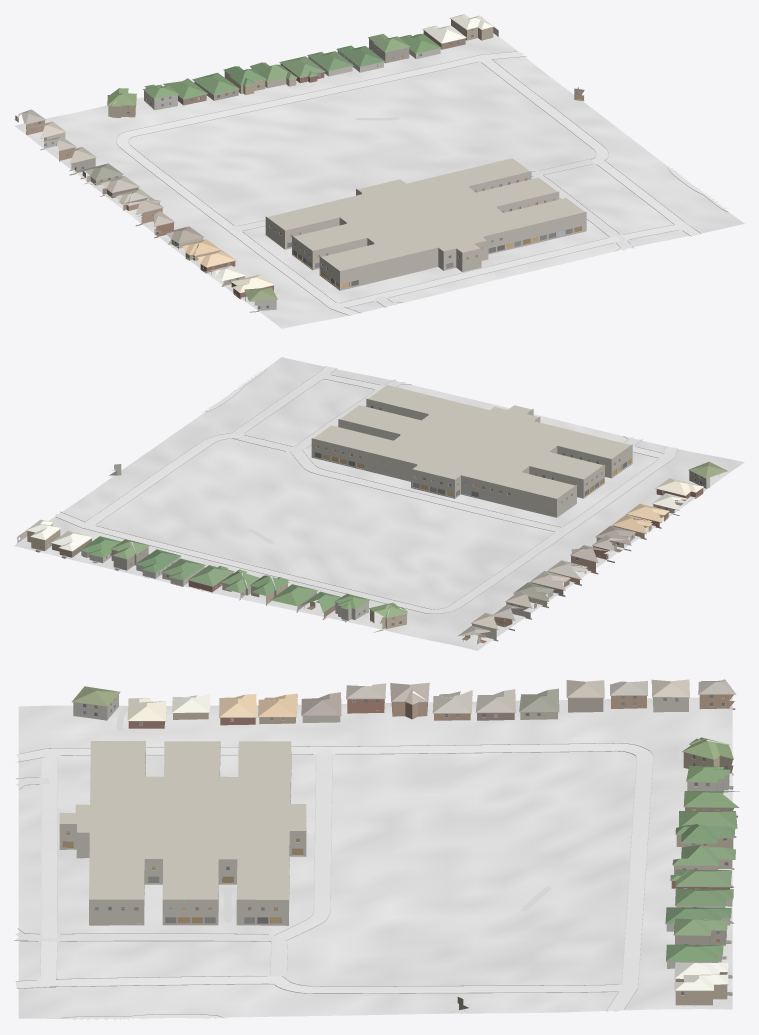
The picture shows the model from 3 angles, top to bottom: view 1: azimuth 30°, elevation 25°; view 2: azimuth 150°, elevation 25°; view 3: azimuth 270°, elevation 25°; orthographic projection. The views are drawn at different scales.
Visible parts, largest first — view 1: ground, roof_flat, roof, concrete, wall_com, wall, curb, detail, wall_stucco, glass, glass_lit, wall_stone; view 2: ground, roof_flat, roof, concrete, wall_com, wall, curb, detail, wall_stucco, glass, glass_lit, wall_stone; view 3: ground, roof_flat, concrete, roof, wall, wall_com, curb, detail, wall_stucco, glass, wall_stone, glass_lit (+1 smaller).
Part boxes in pixels (left/top/right/bottom): ground: left=15, top=33, right=744, bottom=328; roof_flat: left=267, top=158, right=584, bottom=270; roof: left=17, top=14, right=493, bottom=301; concrete: left=116, top=51, right=725, bottom=315; wall_com: left=265, top=88, right=586, bottom=290; wall: left=26, top=19, right=493, bottom=299; curb: left=116, top=51, right=727, bottom=315; detail: left=27, top=18, right=581, bottom=309; wall_stucco: left=40, top=17, right=498, bottom=248; glass: left=38, top=29, right=572, bottom=308; glass_lit: left=31, top=27, right=583, bottom=288; wall_stone: left=245, top=48, right=440, bottom=312; ground: left=14, top=357, right=744, bottom=650; roof_flat: left=313, top=385, right=630, bottom=498; roof: left=26, top=461, right=727, bottom=636; concrete: left=55, top=366, right=677, bottom=613; wall_com: left=111, top=398, right=632, bottom=517; wall: left=27, top=488, right=703, bottom=632; curb: left=56, top=366, right=677, bottom=613; detail: left=16, top=405, right=720, bottom=642; wall_stucco: left=17, top=531, right=634, bottom=641; glass: left=109, top=405, right=701, bottom=625; glass_lit: left=47, top=445, right=701, bottom=574; wall_stone: left=81, top=471, right=709, bottom=578; ground: left=18, top=697, right=732, bottom=1018; roof_flat: left=59, top=741, right=306, bottom=901; concrete: left=15, top=743, right=652, bottom=1020; roof: left=72, top=679, right=739, bottom=990; wall: left=128, top=694, right=737, bottom=1005; wall_com: left=59, top=741, right=306, bottom=925; curb: left=14, top=743, right=653, bottom=1018; detail: left=59, top=692, right=739, bottom=1012; wall_stucco: left=302, top=697, right=732, bottom=907; glass: left=83, top=695, right=730, bottom=994; wall_stone: left=73, top=694, right=730, bottom=968; glass_lit: left=62, top=695, right=724, bottom=944.
Size of the model in its own units: 256 by 15.73 by 256.
